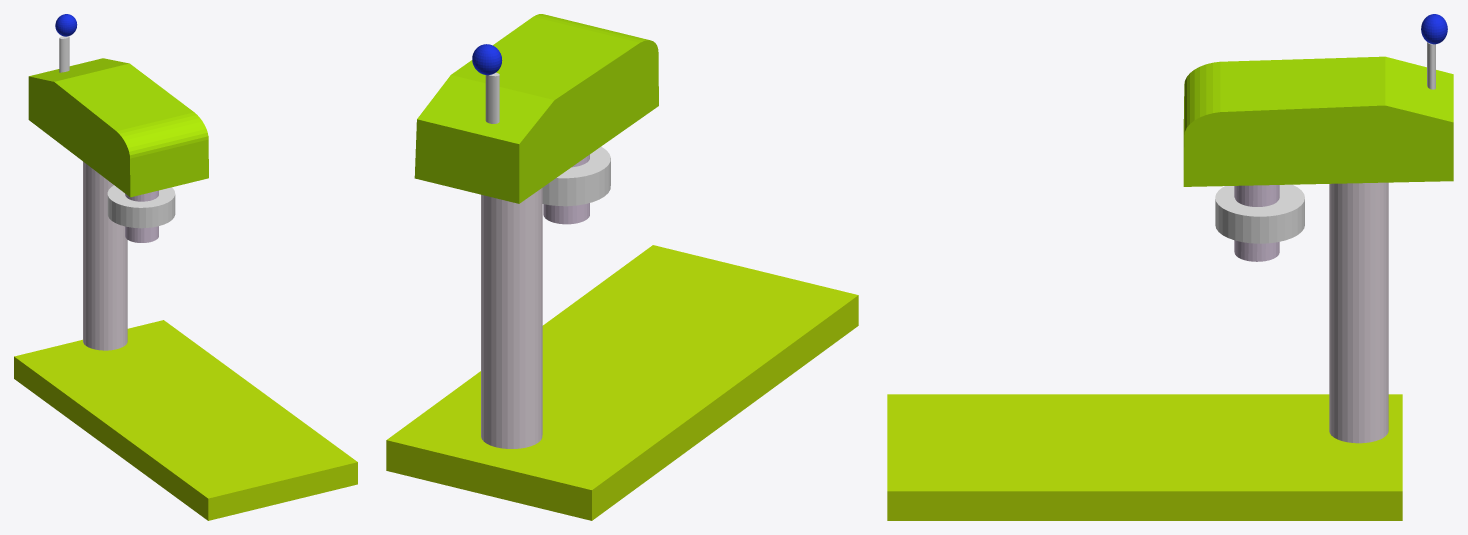
File: Без имени.fbx
The picture shows the model from 3 angles, left to right: view 1: azimuth 30°, elevation 25°; view 2: azimuth 150°, elevation 25°; view 3: azimuth 270°, elevation 25°; orthographic projection. The views are drawn at different scales.
Parts seen in each view (by area): view 1: Cube, Куб.001, Цилиндр, Цилиндр.001, Куб, Сфера; view 2: Cube, Куб.001, Цилиндр, Цилиндр.001, Куб, Сфера, Цилиндр.002; view 3: Cube, Куб.001, Цилиндр, Цилиндр.001, Куб, Сфера.
Part boxes in pixels (x1=…): Cube: x1=14, y1=320, x2=357, y2=520; Куб.001: x1=28, y1=58, x2=208, y2=197; Цилиндр: x1=83, y1=161, x2=127, y2=350; Цилиндр.001: x1=107, y1=185, x2=175, y2=228; Куб: x1=125, y1=190, x2=158, y2=242; Сфера: x1=55, y1=14, x2=77, y2=36; Cube: x1=386, y1=245, x2=858, y2=520; Куб.001: x1=414, y1=14, x2=658, y2=203; Цилиндр: x1=481, y1=188, x2=542, y2=448; Цилиндр.001: x1=542, y1=146, x2=610, y2=206; Куб: x1=543, y1=154, x2=589, y2=224; Сфера: x1=472, y1=44, x2=502, y2=75; Цилиндр.002: x1=485, y1=72, x2=499, y2=123; Cube: x1=887, y1=394, x2=1402, y2=520; Куб.001: x1=1183, y1=56, x2=1453, y2=186; Цилиндр: x1=1329, y1=182, x2=1388, y2=443; Цилиндр.001: x1=1215, y1=184, x2=1304, y2=243; Куб: x1=1234, y1=185, x2=1279, y2=261; Сфера: x1=1421, y1=14, x2=1447, y2=44.
Size of the model in its own units: 154 by 334 by 380.
